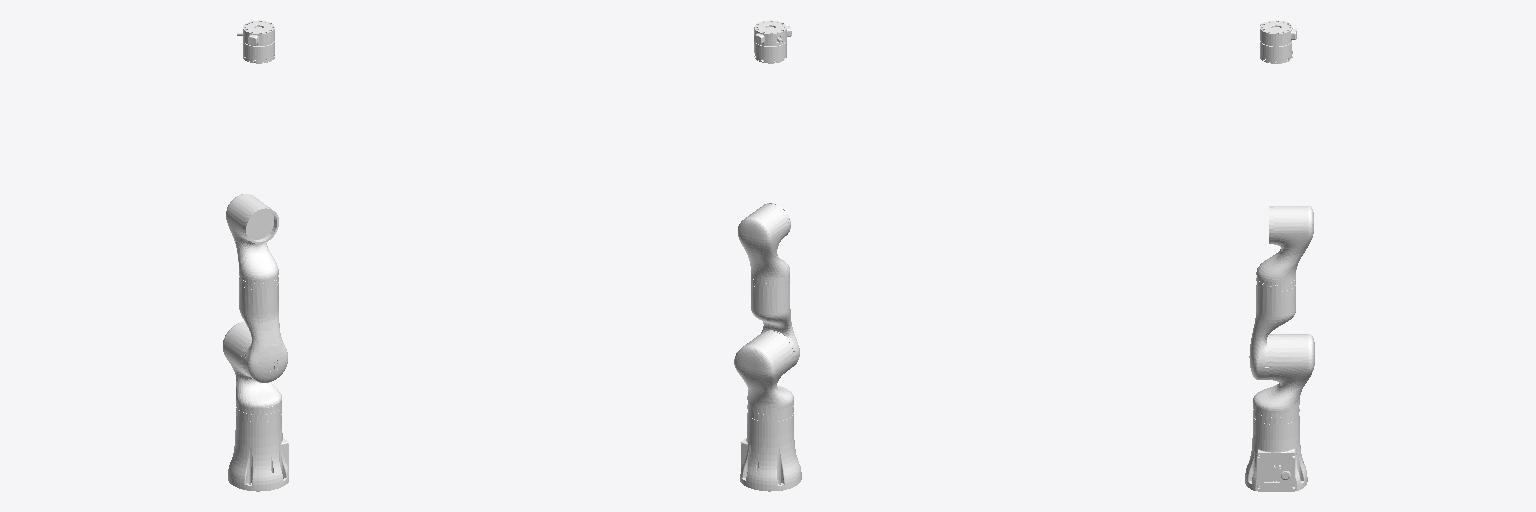
robot.urdf — rm_65_6f_description:
<?xml version="1.0" encoding="utf-8"?>
<!-- This URDF was automatically created by SolidWorks to URDF Exporter! Originally created by Stephen Brawner (brawner@gmail.com) 
     Commit Version: 1.6.0-1-g15f4949  Build Version: 1.6.7594.29634
     For more information, please see http://wiki.ros.org/sw_urdf_exporter -->
<robot
  name="rm_65_6f_description">
  <link
    name="base_link">
    <inertial>
      <origin
        xyz="-0.00049987 -5.2709E-05 0.060019"
        rpy="0 0 0" />
      <mass
        value="1.862" />
      <inertia
        ixx="0.0017232"
        ixy="-3.1058E-06"
        ixz="3.7924E-05"
        iyy="0.0017051"
        iyz="-1.3691E-06"
        izz="0.00090158" />
    </inertial>
    <visual>
      <origin
        xyz="0 0 0"
        rpy="0 0 0" />
      <geometry>
        <mesh
          filename="package://rm_description/meshes/rm_65_arm/base_link.STL" />
      </geometry>
      <material
        name="">
        <color
          rgba="1 1 1 1" />
      </material>
    </visual>
    <collision>
      <origin
        xyz="0 0 0"
        rpy="0 0 0" />
      <geometry>
        <mesh
          filename="package://rm_description/meshes/rm_65_arm/base_link.STL" />
      </geometry>
    </collision>
  </link>
  <link
    name="Link1">
    <inertial>
      <origin
        xyz="0.000941 0.007803 -0.10744"
        rpy="0 0 0" />
      <mass
        value="1.51" />
      <inertia
        ixx="0.002662223"
        ixy="-0.000026849"
        ixz="-0.000013775"
        iyy="0.002331685"
        iyz="-0.000078667"
        izz="0.001663712" />
    </inertial>
    <visual>
      <origin
        xyz="0 0 0"
        rpy="0 0 0" />
      <geometry>
        <mesh
          filename="package://rm_description/meshes/rm_65_arm/link1.STL" />
      </geometry>
      <material
        name="">
        <color
          rgba="1 1 1 1" />
      </material>
    </visual>
    <collision>
      <origin
        xyz="0 0 0"
        rpy="0 0 0" />
      <geometry>
        <mesh
          filename="package://rm_description/meshes/rm_65_arm/link1.STL" />
      </geometry>
    </collision>
  </link>
  <joint
    name="joint1"
    type="revolute">
    <origin
      xyz="0 0 0.2405"
      rpy="0 0 0" />
    <parent
      link="base_link" />
    <child
      link="Link1" />
    <axis
      xyz="0 0 1" />
    <limit
      lower="-3.106"
      upper="3.106"
      effort="60"
      velocity="3.14" />
  </joint>
  <link
    name="Link2">
    <inertial>
      <origin
        xyz="0.183722 0.000103 -0.001665"
        rpy="0 0 0" />
      <mass
        value="1.653" />
      <inertia
        ixx="0.001706953"
        ixy="-0.000006995"
        ixz="0.001809254"
        iyy="0.014713776"
        iyz="0.000006223"
        izz="0.014239805" />
    </inertial>
    <visual>
      <origin
        xyz="0 0 0"
        rpy="0 0 0" />
      <geometry>
        <mesh
          filename="package://rm_description/meshes/rm_65_arm/link2.STL" />
      </geometry>
      <material
        name="">
        <color
          rgba="1 1 1 1" />
      </material>
    </visual>
    <collision>
      <origin
        xyz="0 0 0"
        rpy="0 0 0" />
      <geometry>
        <mesh
          filename="package://rm_description/meshes/rm_65_arm/link2.STL" />
      </geometry>
    </collision>
  </link>
  <joint
    name="joint2"
    type="revolute">
    <origin
      xyz="0 0 0"
      rpy="-1.57079265345464 -1.57079265358979 3.14159265345464" />
    <parent
      link="Link1" />
    <child
      link="Link2" />
    <axis
      xyz="0 0 1" />
    <limit
      lower="-2.2689"
      upper="2.2689"
      effort="60"
      velocity="3.14" />
  </joint>
  <link
    name="Link3">
    <inertial>
      <origin
        xyz="0.000029 -0.090105 0.004039"
        rpy="0 0 0" />
      <mass
        value="0.726" />
      <inertia
        ixx="0.001350874"
        ixy="0.000001069"
        ixz="-0.000000228"
        iyy="0.000360021"
        iyz="-0.000219904"
        izz="0.001331598" />
    </inertial>
    <visual>
      <origin
        xyz="0 0 0"
        rpy="0 0 0" />
      <geometry>
        <mesh
          filename="package://rm_description/meshes/rm_65_arm/link3.STL" />
      </geometry>
      <material
        name="">
        <color
          rgba="1 1 1 1" />
      </material>
    </visual>
    <collision>
      <origin
        xyz="0 0 0"
        rpy="0 0 0" />
      <geometry>
        <mesh
          filename="package://rm_description/meshes/rm_65_arm/link3.STL" />
      </geometry>
    </collision>
  </link>
  <joint
    name="joint3"
    type="revolute">
    <origin
      xyz="0.256 0 0"
      rpy="0 0 1.5708" />
    <parent
      link="Link2" />
    <child
      link="Link3" />
    <axis
      xyz="0 0 1" />
    <limit
      lower="-2.356"
      upper="2.356"
      effort="30"
      velocity="3.14" />
  </joint>
  <link
    name="Link4">
    <inertial>
      <origin
        xyz="0.000007 -0.009486 -0.008041"
        rpy="0 0 0" />
      <mass
        value="0.671" />
      <inertia
        ixx="0.000690221"
        ixy="-0.000000865"
        ixz="-0.000000692"
        iyy="0.000552834"
        iyz="0.000016411"
        izz="0.000425835" />
    </inertial>
    <visual>
      <origin
        xyz="0 0 0"
        rpy="0 0 0" />
      <geometry>
        <mesh
          filename="package://rm_description/meshes/rm_65_arm/link4.STL" />
      </geometry>
      <material
        name="">
        <color
          rgba="1 1 1 1" />
      </material>
    </visual>
    <collision>
      <origin
        xyz="0 0 0"
        rpy="0 0 0" />
      <geometry>
        <mesh
          filename="package://rm_description/meshes/rm_65_arm/link4.STL" />
      </geometry>
    </collision>
  </link>
  <joint
    name="joint4"
    type="revolute">
    <origin
      xyz="0 -0.21 0"
      rpy="1.5708 0 0" />
    <parent
      link="Link3" />
    <child
      link="Link4" />
    <axis
      xyz="0 0 1" />
    <limit
      lower="-3.106"
      upper="3.106"
      effort="10"
      velocity="3.14" />
  </joint>
  <link
    name="Link5">
    <inertial>
      <origin
        xyz="0.000032 -0.083769 0.002326"
        rpy="0 0 0" />
      <mass
        value="0.647" />
      <inertia
        ixx="0.000834052"
        ixy="0.000000952"
        ixz="-0.000000257"
        iyy="0.000281767"
        iyz="-0.000111750"
        izz="0.000821714" />
    </inertial>
    <visual>
      <origin
        xyz="0 0 0"
        rpy="0 0 0" />
      <geometry>
        <mesh
          filename="package://rm_description/meshes/rm_65_arm/link5.STL" />
      </geometry>
      <material
        name="">
        <color
          rgba="1 1 1 1" />
      </material>
    </visual>
    <collision>
      <origin
        xyz="0 0 0"
        rpy="0 0 0" />
      <geometry>
        <mesh
          filename="package://rm_description/meshes/rm_65_arm/link5.STL" />
      </geometry>
    </collision>
  </link>
  <joint
    name="joint5"
    type="revolute">
    <origin
      xyz="0 0 0"
      rpy="-1.5708 0 0" />
    <parent
      link="Link4" />
    <child
      link="Link5" />
    <axis
      xyz="0 0 1" />
    <limit
      lower="-2.234"
      upper="2.234"
      effort="10"
      velocity="3.14" />
  </joint>
  <link
    name="Link6">
    <inertial>
      <origin
        xyz="-0.000569 0.00029 -0.010569"
        rpy="0 0 0" />
      <mass
        value="0.14434" />
      <inertia
        ixx="3.043E-05"
        ixy="2.622E-09"
        ixz="2.199E-08"
        iyy="3.604E-05"
        iyz="1.195E-08"
        izz="5.52E-05" />
    </inertial>
    <visual>
      <origin
        xyz="0 0 0"
        rpy="0 0 0" />
      <geometry>
        <mesh
          filename="package://rm_description/meshes/rm_65_arm/link6_6f.STL" />
      </geometry>
      <material
        name="">
        <color
          rgba="1 1 1 1" />
      </material>
    </visual>
    <collision>
      <origin
        xyz="0 0 0"
        rpy="0 0 0" />
      <geometry>
        <mesh
          filename="package://rm_description/meshes/rm_65_arm/link6_6f.STL" />
      </geometry>
    </collision>
  </link>
  <joint
    name="joint6"
    type="revolute">
    <origin
      xyz="0 -0.1725 0"
      rpy="1.5708 0 0" />
    <parent
      link="Link5" />
    <child
      link="Link6" />
    <axis
      xyz="0 0 1" />
    <limit
      lower="-6.28"
      upper="6.28"
      effort="10"
      velocity="3.14" />
  </joint>
</robot>

--- What the picture shows (computed from the rendered views, not written in the file) ---
Views: 3 orthographic renders of the robot side by side, from view 1: azimuth 30°, elevation 25°; view 2: azimuth 150°, elevation 25°; view 3: azimuth 270°, elevation 25°.
Model rm_65_6f_description with 7 links and 6 joints (6 revolute), rooted at base_link, posed every joint at zero.
Links seen in each view (by area): view 1: Link2, base_link, Link1, Link6; view 2: Link2, base_link, Link1, Link6; view 3: Link2, base_link, Link1, Link6.
Link boxes in pixels (<box>): Link2: <box>226,194,287,382</box>; base_link: <box>228,409,288,491</box>; Link1: <box>223,322,281,416</box>; Link6: <box>237,20,274,63</box>; Link2: <box>738,203,799,368</box>; base_link: <box>740,407,801,491</box>; Link1: <box>734,330,794,416</box>; Link6: <box>754,20,791,63</box>; Link2: <box>1249,206,1313,379</box>; base_link: <box>1245,411,1307,491</box>; Link1: <box>1253,334,1314,419</box>; Link6: <box>1260,20,1296,63</box>.
Bounding box of the posed robot: 0.0985 × 0.123 × 0.879 m (x, y, z).
Meshes: 7 distinct files referenced, 4 mesh visuals loaded (4 binary STL); not drawn: 3 (reference not matched to a file when rendering).
